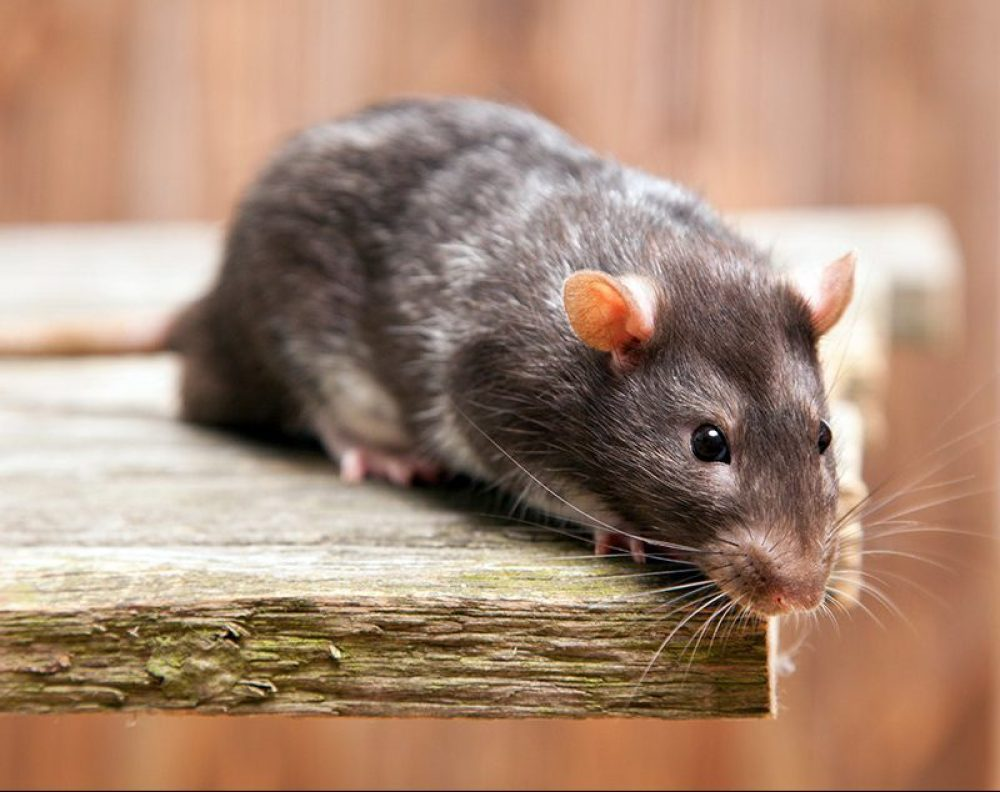rat: (158, 82, 888, 633)
